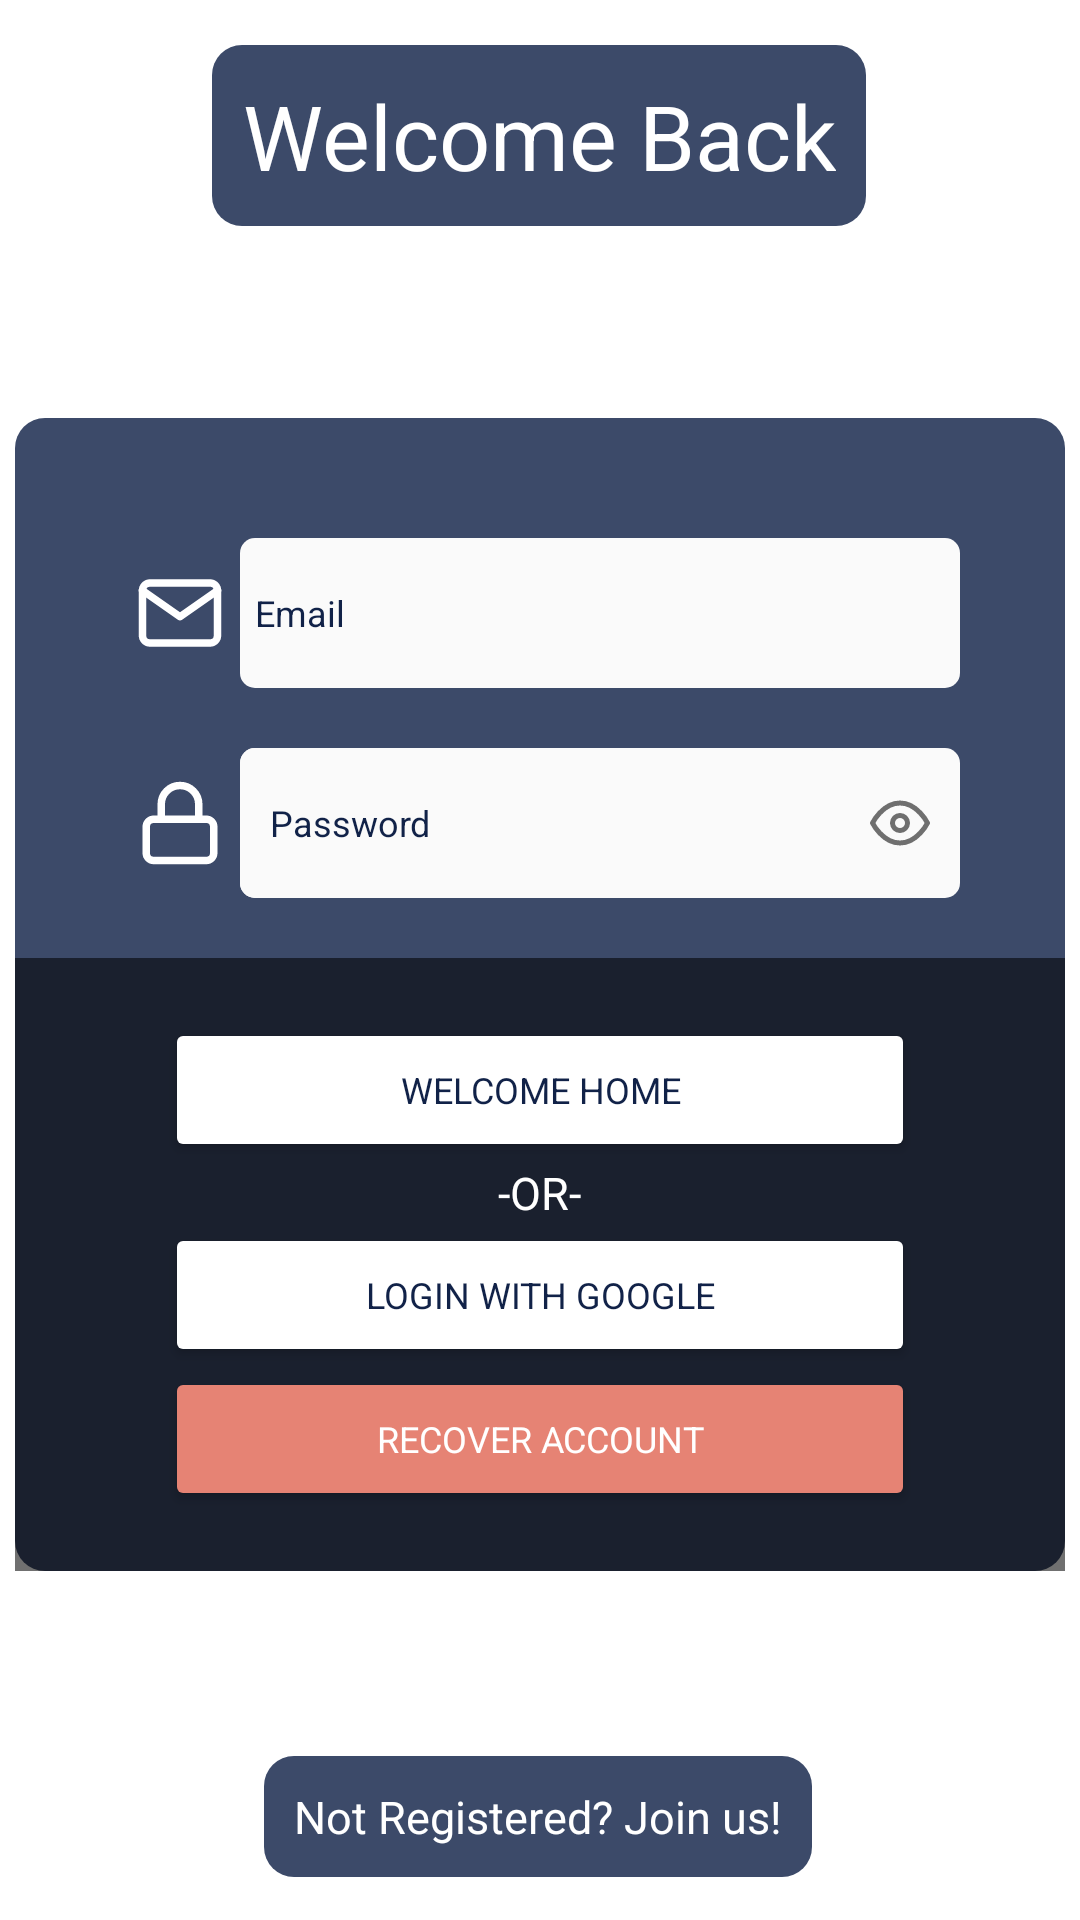

Icons on this 1080 × 1920 Android screen, each with the point to tap as (x=x, y=y):
lock: (x=180, y=823)
